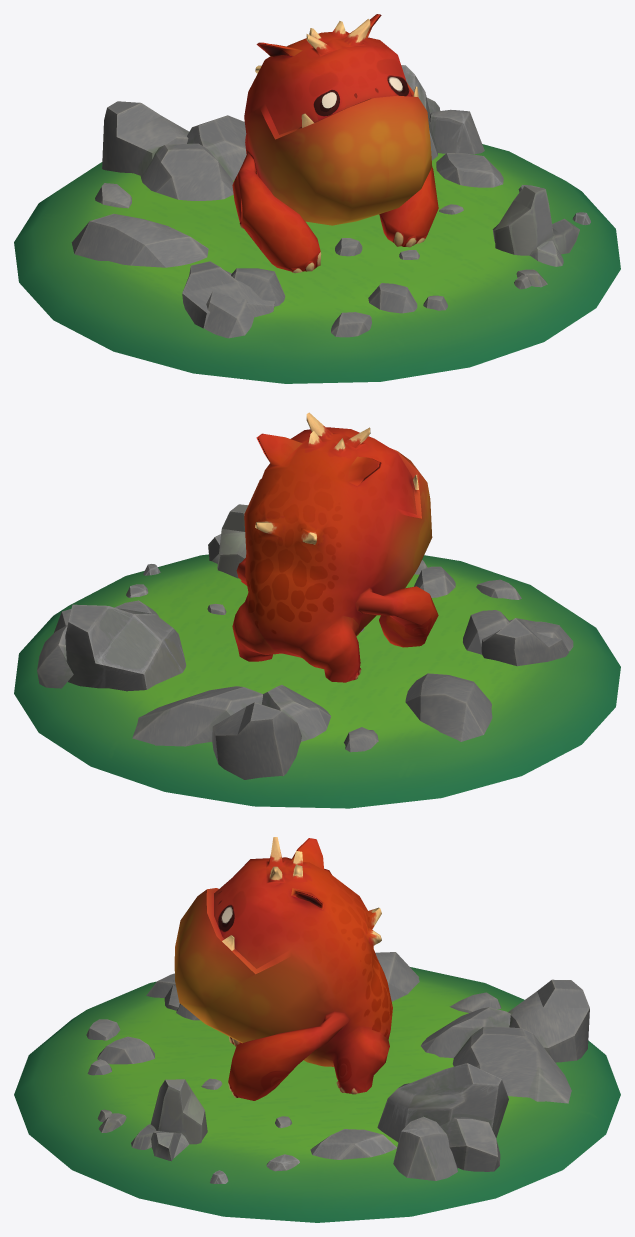
The model's file is monster_diorama.glb.
The picture shows the model from 3 angles, top to bottom: view 1: azimuth 30°, elevation 25°; view 2: azimuth 150°, elevation 25°; view 3: azimuth 270°, elevation 25°; orthographic projection.
Visible parts, largest first — view 1: Object_2, Object_3, Object_4; view 2: Object_2, Object_3, Object_4; view 3: Object_2, Object_3, Object_4.
Boxes of the visible parts, x1,y1,x2,y2 form: Object_2: (14,144,620,383); Object_3: (232,14,438,273); Object_4: (71,65,590,338); Object_2: (14,554,620,808); Object_3: (232,412,438,682); Object_4: (37,504,573,779); Object_2: (14,967,620,1222); Object_3: (174,837,392,1100); Object_4: (86,952,589,1183).
Bounding box in the file's own units: 4.65 × 2.07 × 4.65.
3 materials, 3 textured.
